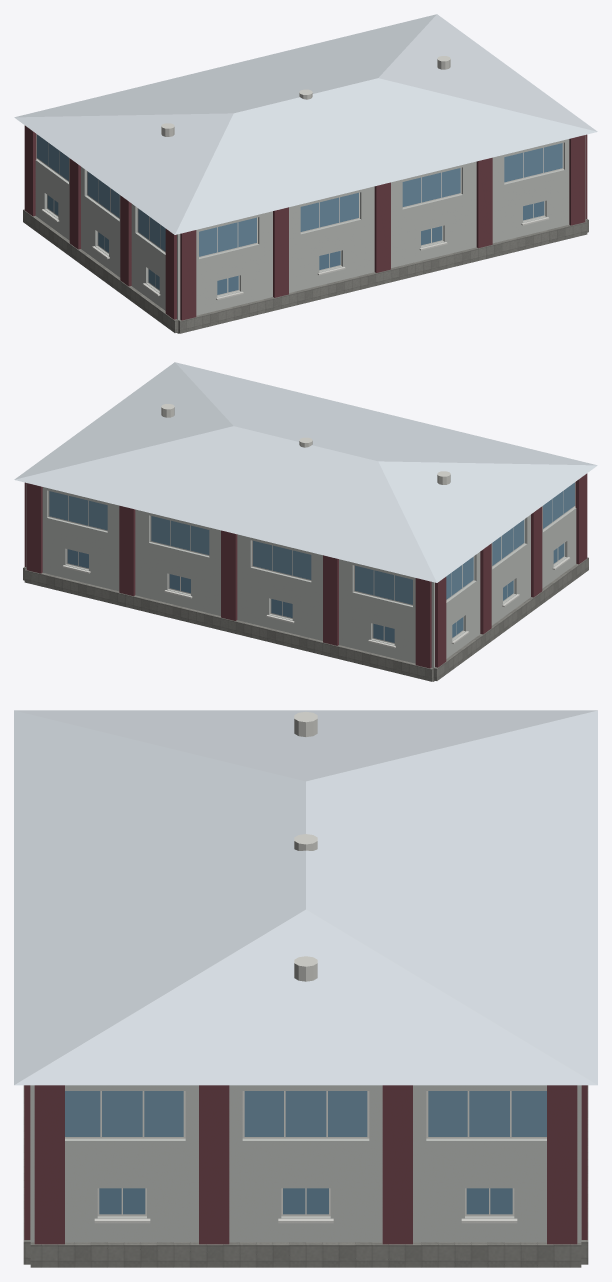
The picture shows the model from 3 angles, top to bottom: view 1: azimuth 30°, elevation 25°; view 2: azimuth 150°, elevation 25°; view 3: azimuth 270°, elevation 25°; orthographic projection. The views are drawn at different scales.
Visible parts, largest first — view 1: hall__roofwhite, hall__wall, hall__maroon, hall__stone, hall__glass, hall__sideglass, hall__frame, hall__white, hall__cap; view 2: hall__roofwhite, hall__wall, hall__maroon, hall__stone, hall__glass, hall__sideglass, hall__frame, hall__white, hall__cap; view 3: hall__roofwhite, hall__wall, hall__maroon, hall__glass, hall__stone, hall__sideglass, hall__frame, hall__cap, hall__white.
Boxes of the visible parts, x1,y1,x2,y2 form: hall__roofwhite: [14, 14, 597, 234]; hall__wall: [35, 134, 585, 319]; hall__maroon: [24, 125, 587, 320]; hall__stone: [23, 209, 588, 333]; hall__glass: [37, 134, 562, 256]; hall__sideglass: [47, 195, 544, 294]; hall__frame: [36, 134, 563, 295]; hall__white: [41, 209, 549, 300]; hall__cap: [161, 56, 450, 136]; hall__roofwhite: [14, 362, 597, 582]; hall__wall: [26, 482, 576, 667]; hall__maroon: [24, 473, 587, 668]; hall__stone: [23, 557, 588, 681]; hall__glass: [49, 482, 574, 604]; hall__sideglass: [67, 543, 564, 642]; hall__frame: [48, 482, 575, 643]; hall__white: [62, 557, 570, 648]; hall__cap: [161, 404, 450, 484]; hall__roofwhite: [14, 710, 597, 1085]; hall__wall: [30, 1085, 581, 1242]; hall__maroon: [24, 1085, 587, 1244]; hall__glass: [65, 1091, 546, 1136]; hall__stone: [23, 1085, 588, 1267]; hall__sideglass: [99, 1188, 512, 1214]; hall__frame: [65, 1091, 546, 1216]; hall__cap: [294, 711, 317, 981]; hall__white: [94, 1218, 517, 1223].
Bounding box in the file's own units: 32.2 × 9.91 × 21.2.
Materials: 9 (4 with a texture image).
